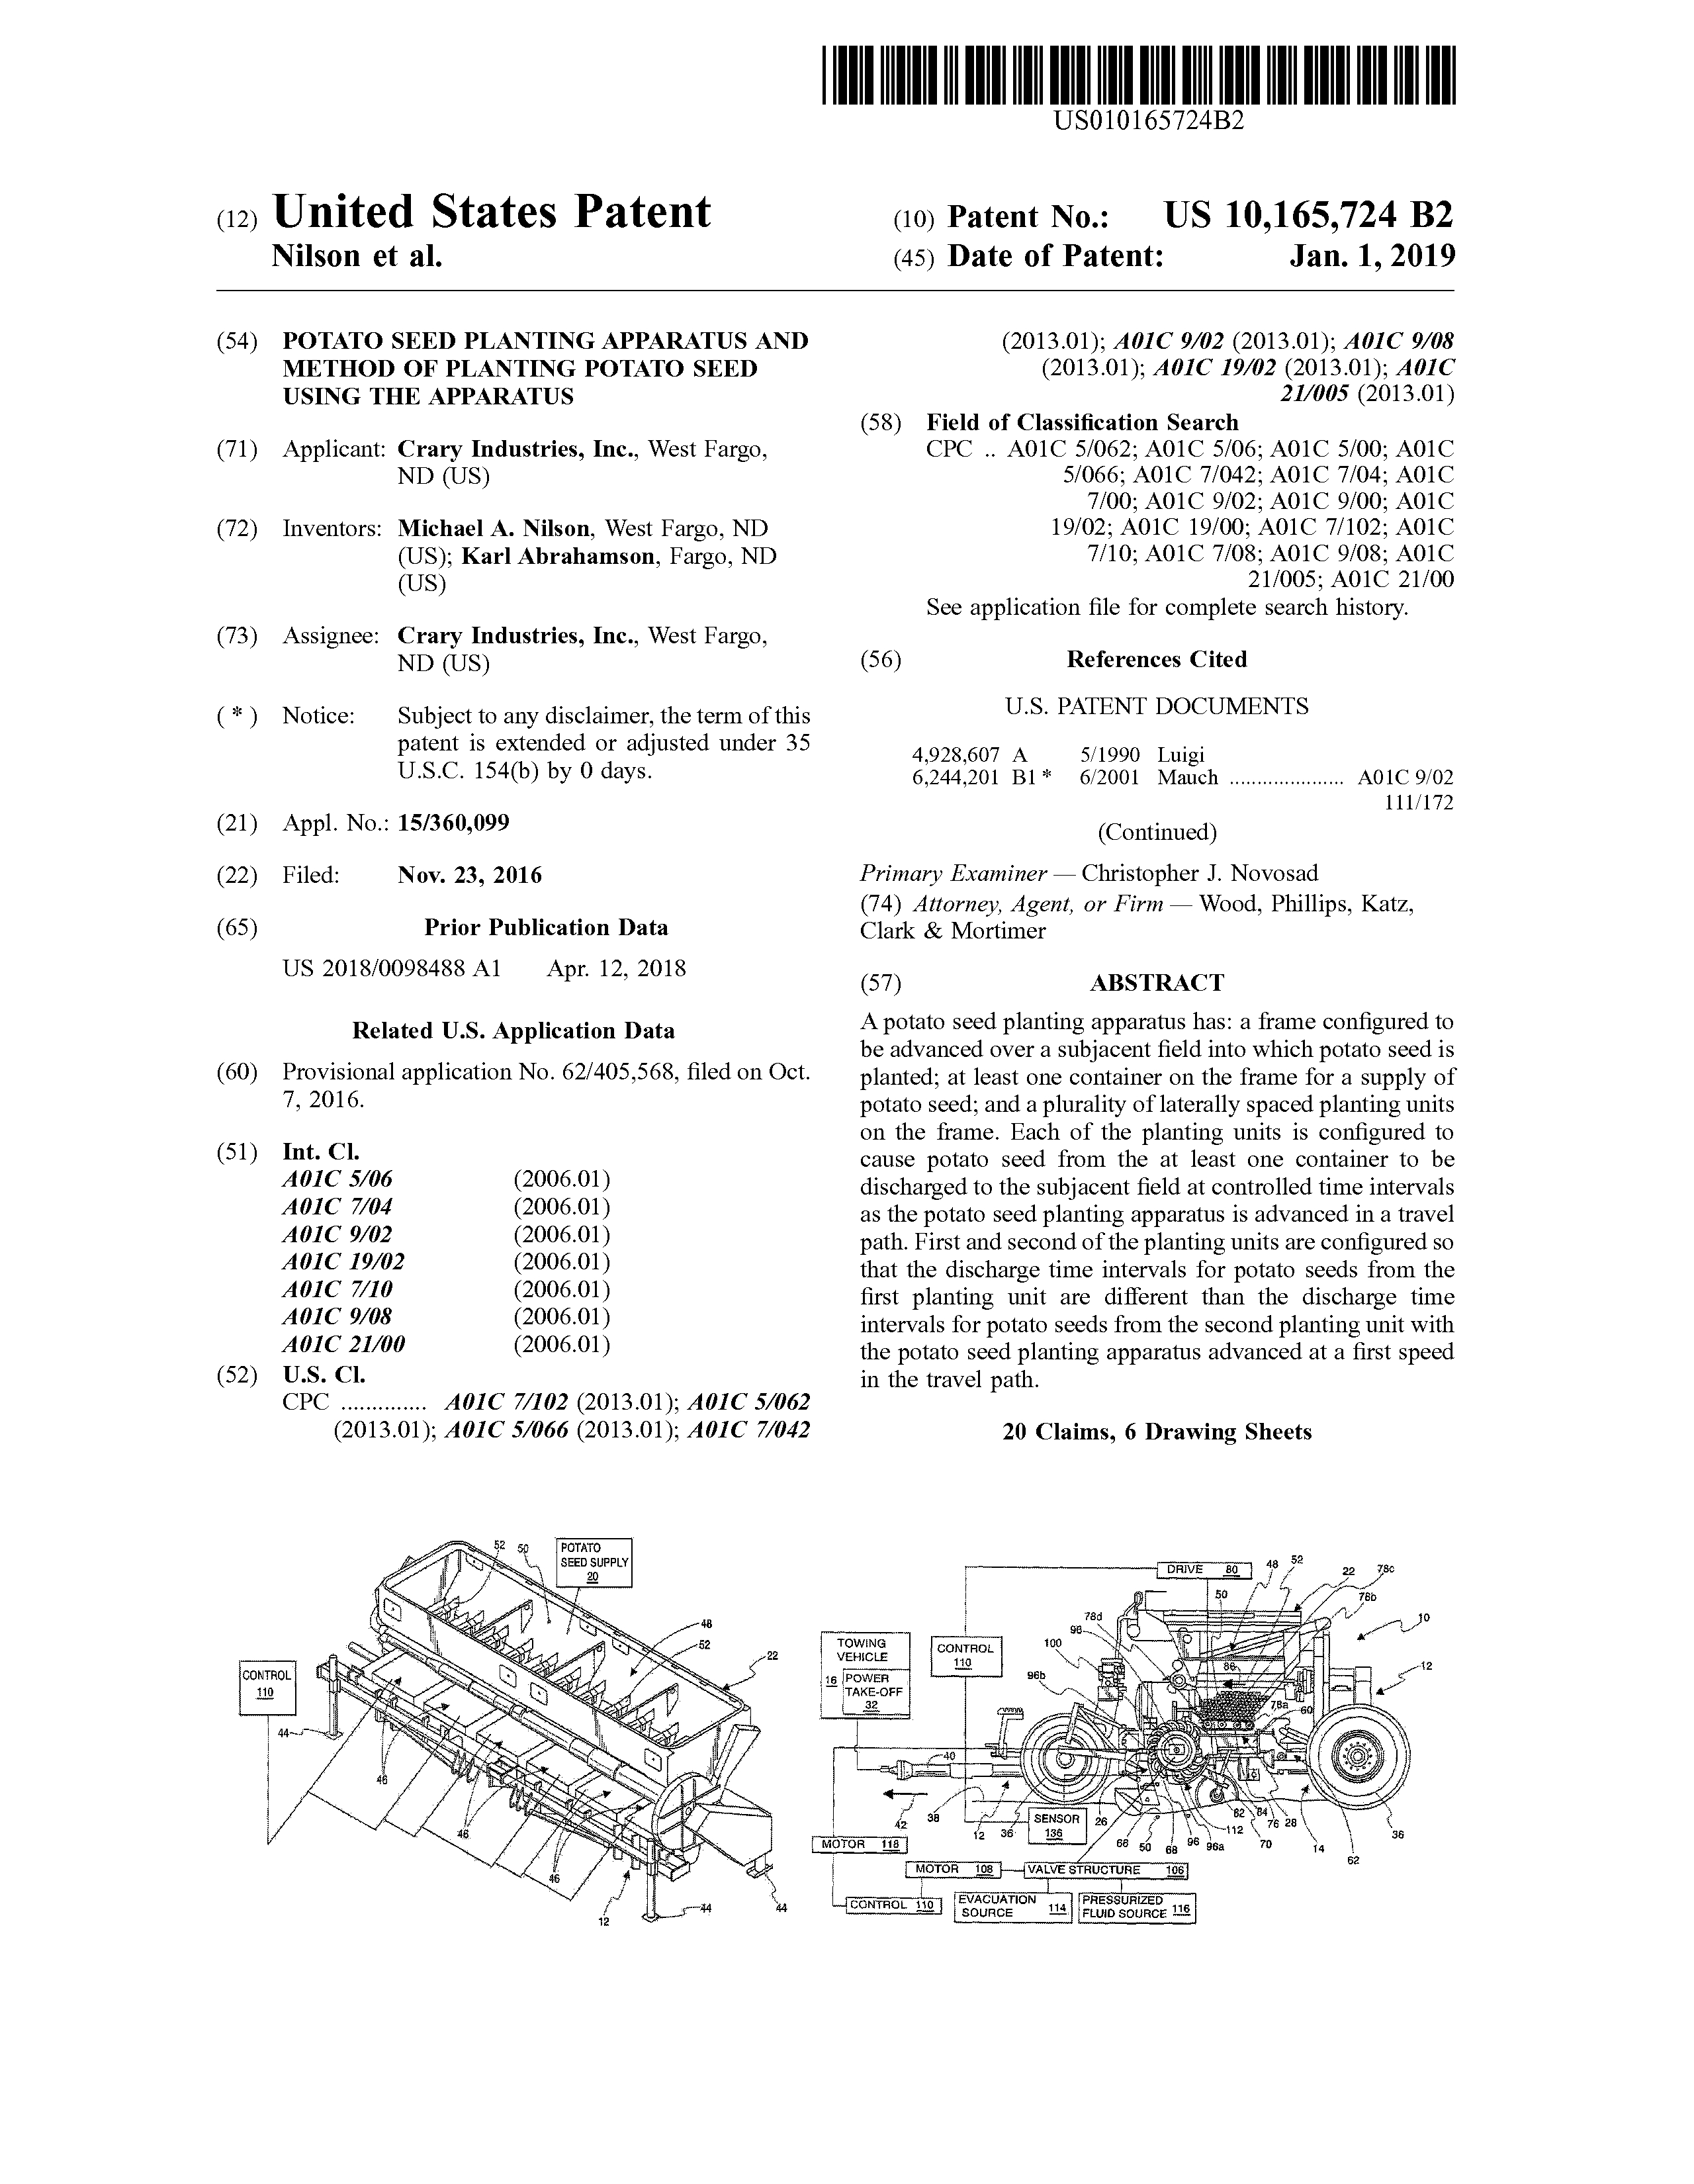patent image: (212, 1493, 1472, 1968)
